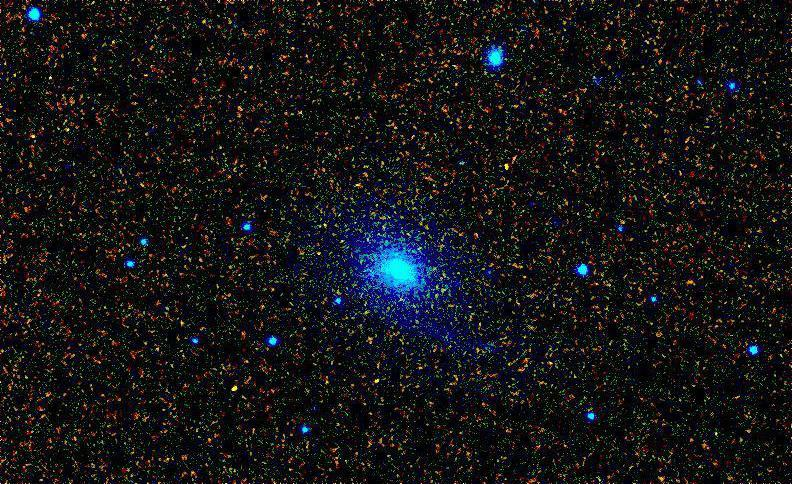star: (219, 376, 249, 406)
